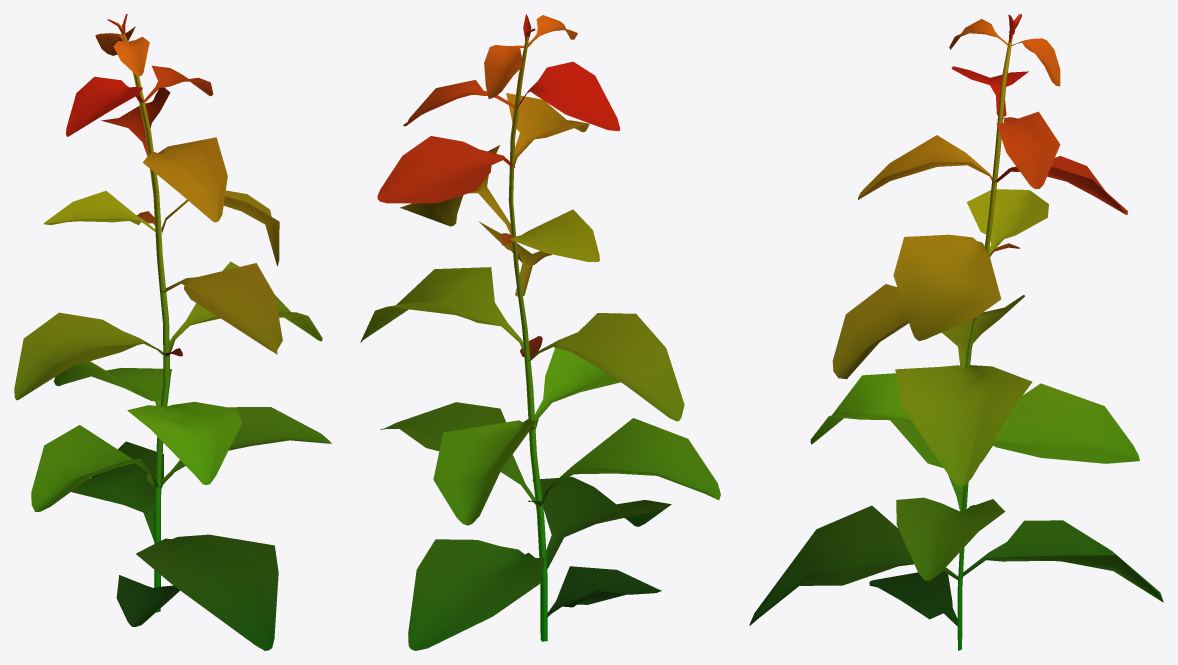
Rendered from SM_OW_Shrub_b_LOD1.fbx.
3 renders of one model, left to right at view 1: azimuth 30°, elevation 25°; view 2: azimuth 150°, elevation 25°; view 3: azimuth 270°, elevation 25°, orthographic. The views are drawn at different scales.
Visible parts, largest first — view 1: SM_OW_Shrub_b_LOD1; view 2: SM_OW_Shrub_b_LOD1; view 3: SM_OW_Shrub_b_LOD1.
Boxes of the visible parts, bbox=[...] form: SM_OW_Shrub_b_LOD1: bbox=[14, 14, 331, 650]; SM_OW_Shrub_b_LOD1: bbox=[360, 14, 720, 650]; SM_OW_Shrub_b_LOD1: bbox=[749, 14, 1163, 650].
Bounding box in the file's own units: 0.1606 × 0.2939 × 0.1751.
